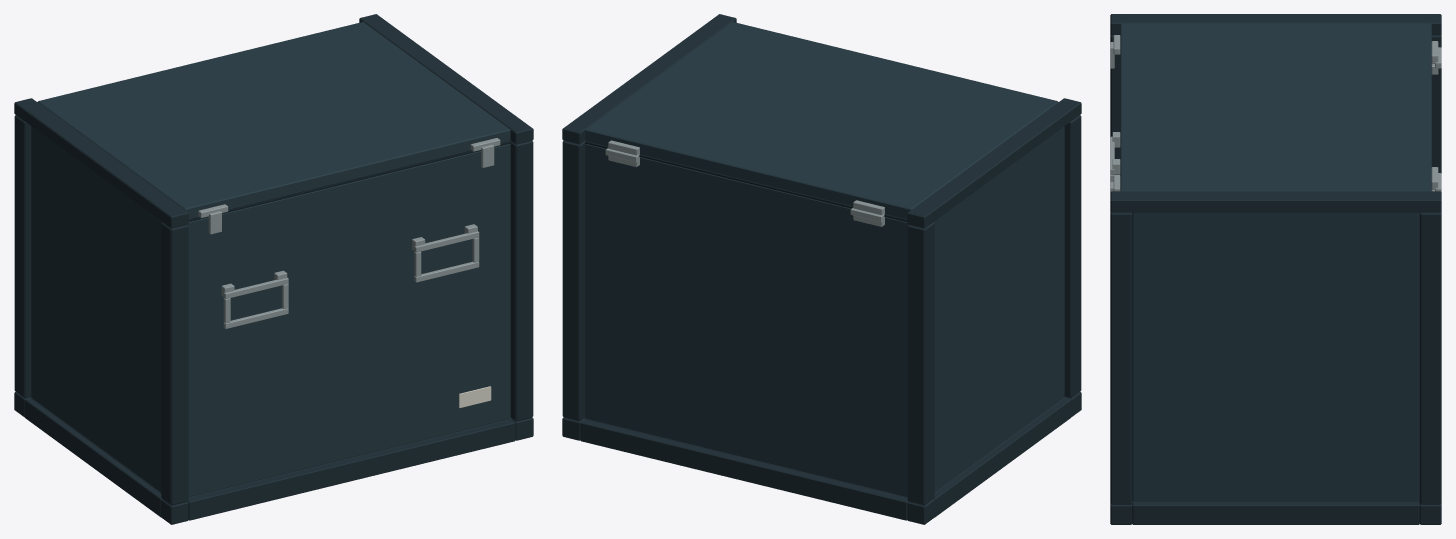
Rendered from heavy-box.glb.
The picture shows the model from 3 angles, left to right: view 1: azimuth 30°, elevation 25°; view 2: azimuth 150°, elevation 25°; view 3: azimuth 270°, elevation 25°; orthographic projection. The views are drawn at different scales.
Parts seen in each view (by area): view 1: heavy-box; view 2: heavy-box; view 3: heavy-box.
Boxes of the visible parts, x1,y1,x2,y2 form: heavy-box: [14, 14, 533, 524]; heavy-box: [562, 14, 1081, 524]; heavy-box: [1110, 14, 1441, 524].
Size of the model in its own units: 0.8 by 0.65 by 0.6.
